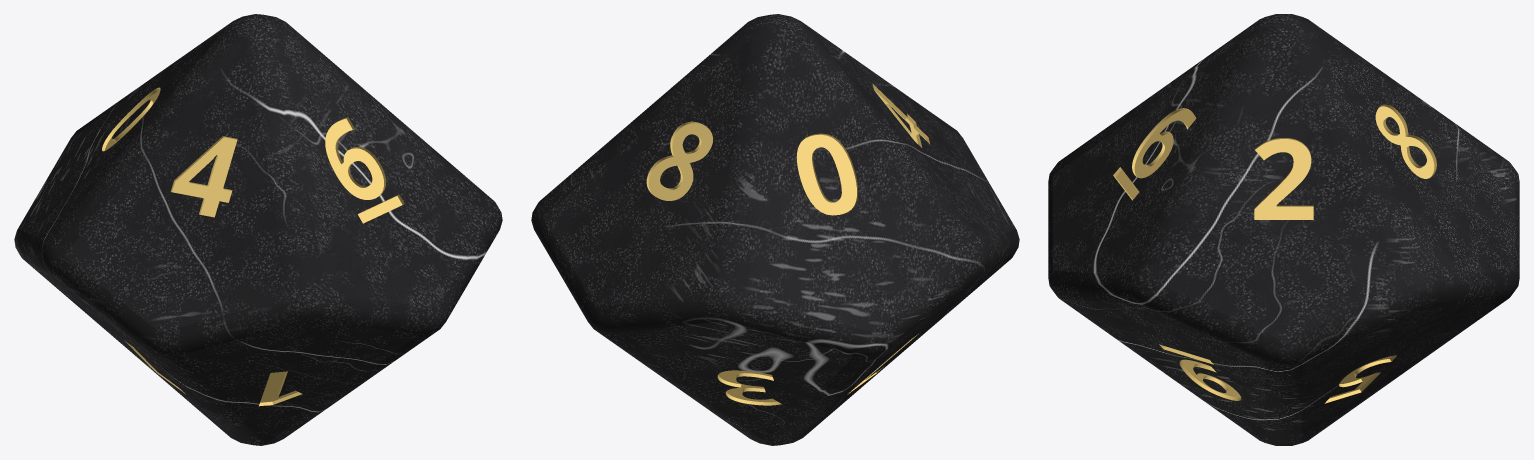
The picture shows the model from 3 angles, left to right: view 1: azimuth 30°, elevation 25°; view 2: azimuth 150°, elevation 25°; view 3: azimuth 270°, elevation 25°; orthographic projection.
Visible parts, largest first — view 1: body.001; view 2: body.001; view 3: body.001.
Boxes of the visible parts, left/top/right/bottom form: body.001: left=14, top=14, right=502, bottom=445; body.001: left=531, top=14, right=1019, bottom=445; body.001: left=1048, top=14, right=1519, bottom=445.
Size of the model in its own units: 0.9493 by 0.8964 by 0.9076.
Materials: 2 (1 with a texture image).
